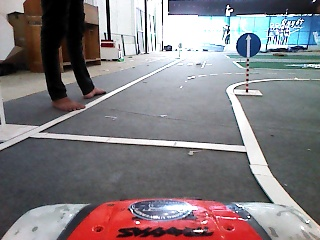straight: (234, 30, 264, 59)
